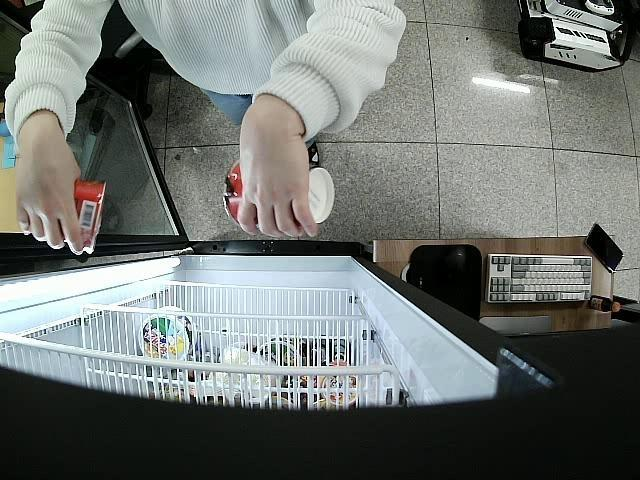02_shinRamen_S: (222, 157, 336, 232), (20, 177, 107, 258)
